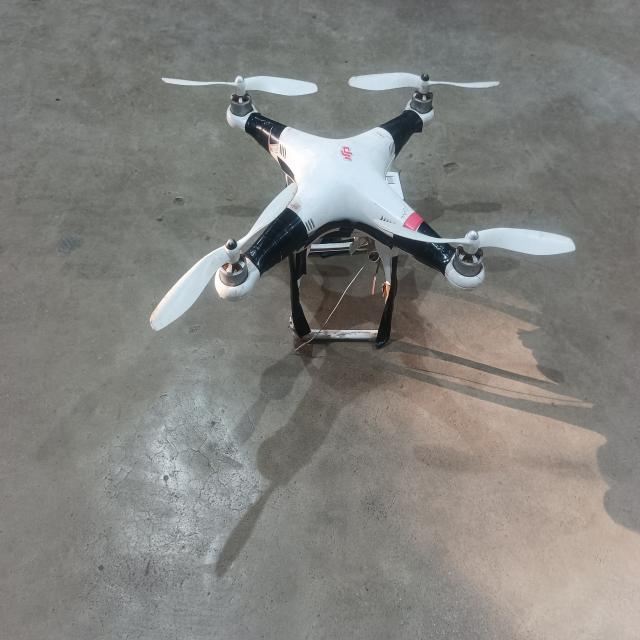drone: (118, 44, 593, 397)
